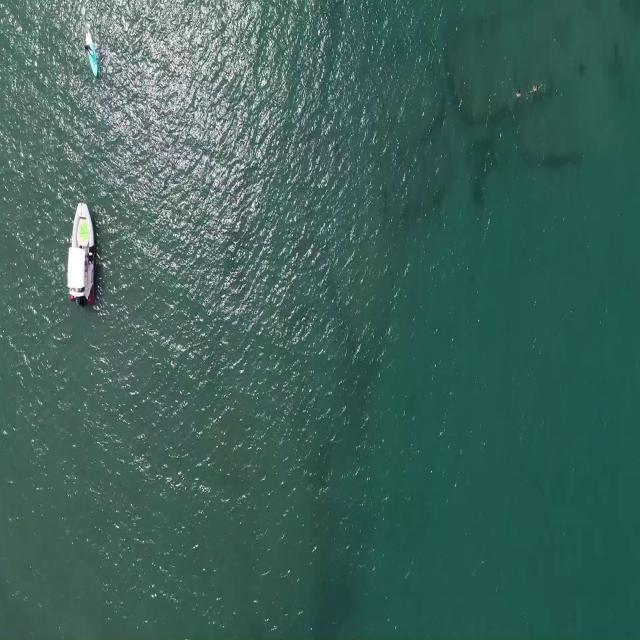boat: (66, 191, 98, 311)
person: (530, 83, 546, 95), (85, 40, 96, 56), (514, 88, 522, 98)
surfboard: (84, 32, 98, 79)
